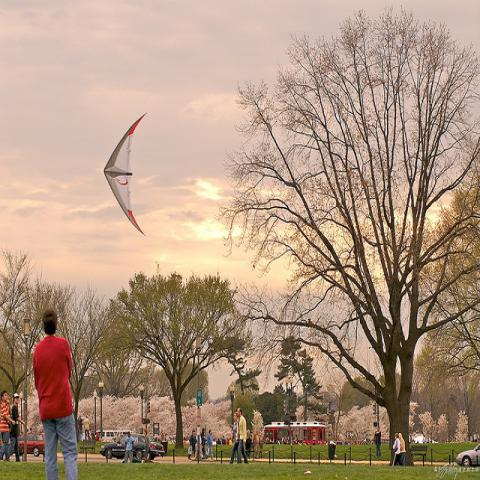car: (99, 426, 167, 460), (17, 430, 45, 456), (457, 442, 479, 468), (98, 429, 134, 442), (415, 436, 424, 444)
